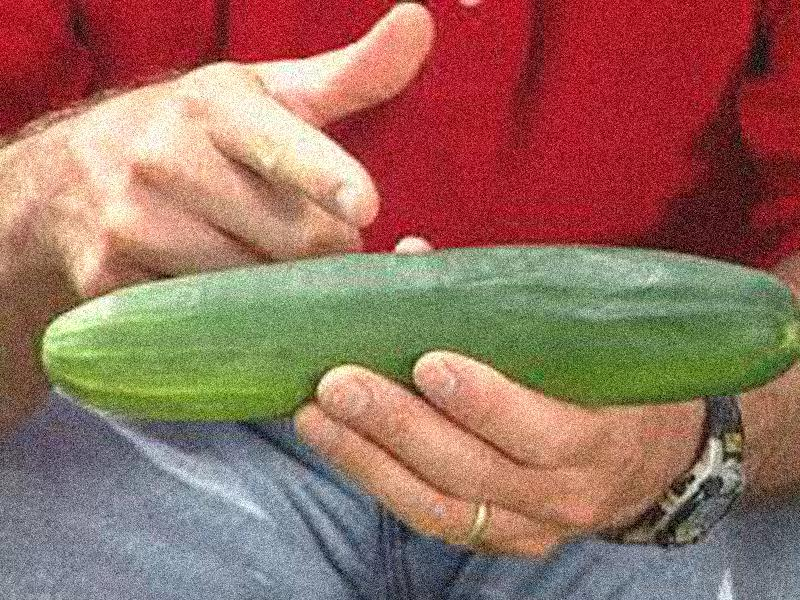Cucumber: (40, 244, 800, 424)
